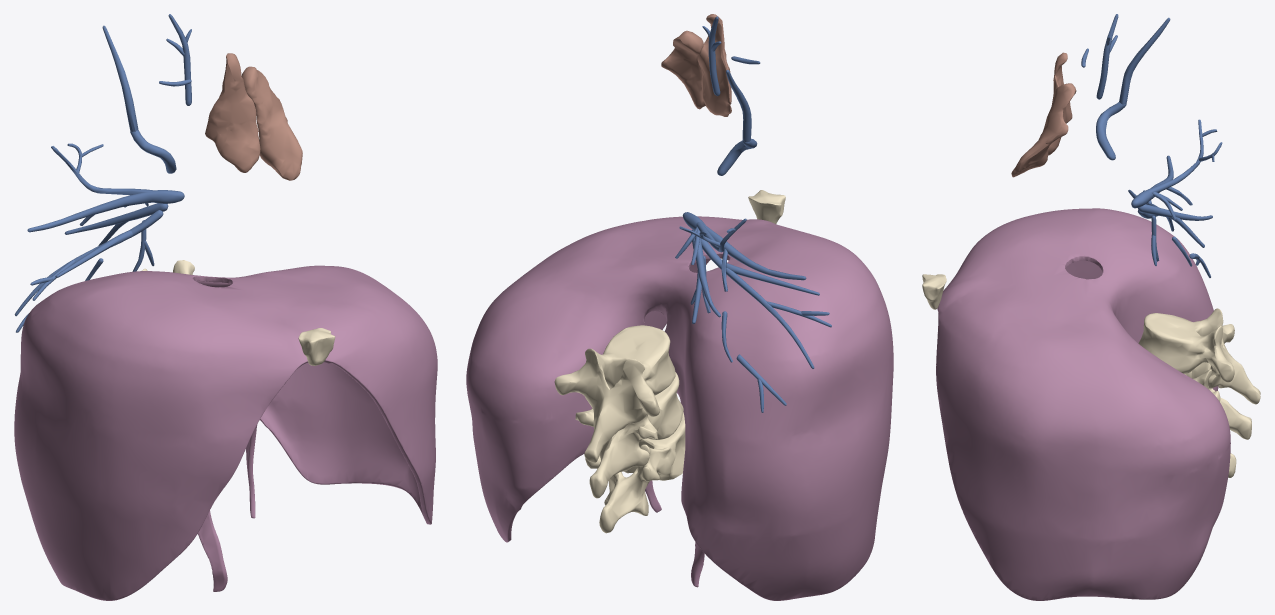
File: thorax-14.glb
The picture shows the model from 3 angles, left to right: view 1: azimuth 30°, elevation 25°; view 2: azimuth 150°, elevation 25°; view 3: azimuth 270°, elevation 25°; orthographic projection. The views are drawn at different scales.
Visible parts, largest first — view 1: FJ3131, FJ3151, FJ3150, FJ3050, FJ3153, FJ3070, FJ3049, FJ3059, FJ3051, FJ3069, FJ3064; view 2: FJ3131, FJ3154, FJ3156, FJ3155, FJ3151, FJ3150, FJ3059, FJ3050, FJ3153, FJ3070, FJ3060; view 3: FJ3131, FJ3154, FJ3150, FJ3155, FJ3070, FJ3069, FJ3153, FJ3151, FJ3064, FJ3051, FJ3049, FJ3050.
Part boxes in pixels (x1,y1,x2,y2): FJ3131: [14, 265, 437, 600]; FJ3151: [205, 53, 260, 172]; FJ3150: [241, 66, 302, 180]; FJ3050: [27, 190, 184, 232]; FJ3153: [298, 328, 335, 365]; FJ3070: [102, 25, 138, 131]; FJ3049: [64, 203, 168, 234]; FJ3059: [14, 210, 163, 316]; FJ3051: [52, 147, 153, 195]; FJ3069: [130, 130, 176, 173]; FJ3064: [168, 14, 191, 105]; FJ3131: [466, 216, 893, 600]; FJ3154: [554, 325, 675, 462]; FJ3156: [585, 412, 685, 533]; FJ3155: [575, 372, 683, 498]; FJ3151: [697, 14, 731, 116]; FJ3150: [661, 30, 705, 109]; FJ3059: [701, 238, 814, 368]; FJ3050: [682, 212, 806, 280]; FJ3153: [748, 190, 785, 223]; FJ3070: [726, 70, 751, 141]; FJ3060: [726, 263, 819, 295]; FJ3131: [936, 208, 1230, 600]; FJ3154: [1138, 308, 1260, 404]; FJ3150: [1011, 83, 1076, 177]; FJ3155: [1184, 362, 1251, 439]; FJ3070: [1119, 17, 1170, 104]; FJ3069: [1096, 102, 1126, 160]; FJ3153: [922, 274, 946, 309]; FJ3151: [1048, 52, 1072, 155]; FJ3064: [1096, 14, 1118, 99]; FJ3051: [1148, 119, 1203, 193]; FJ3049: [1138, 204, 1212, 220]; FJ3050: [1131, 155, 1173, 208].
Size of the model in its own units: 0.2432 by 0.3605 by 0.2055.
